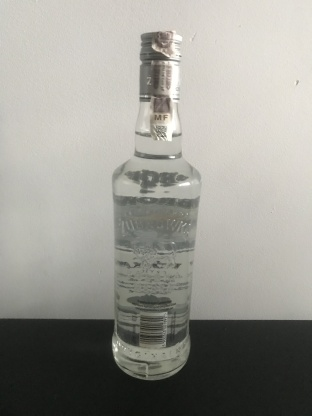nakretka: (138, 29, 183, 102)
